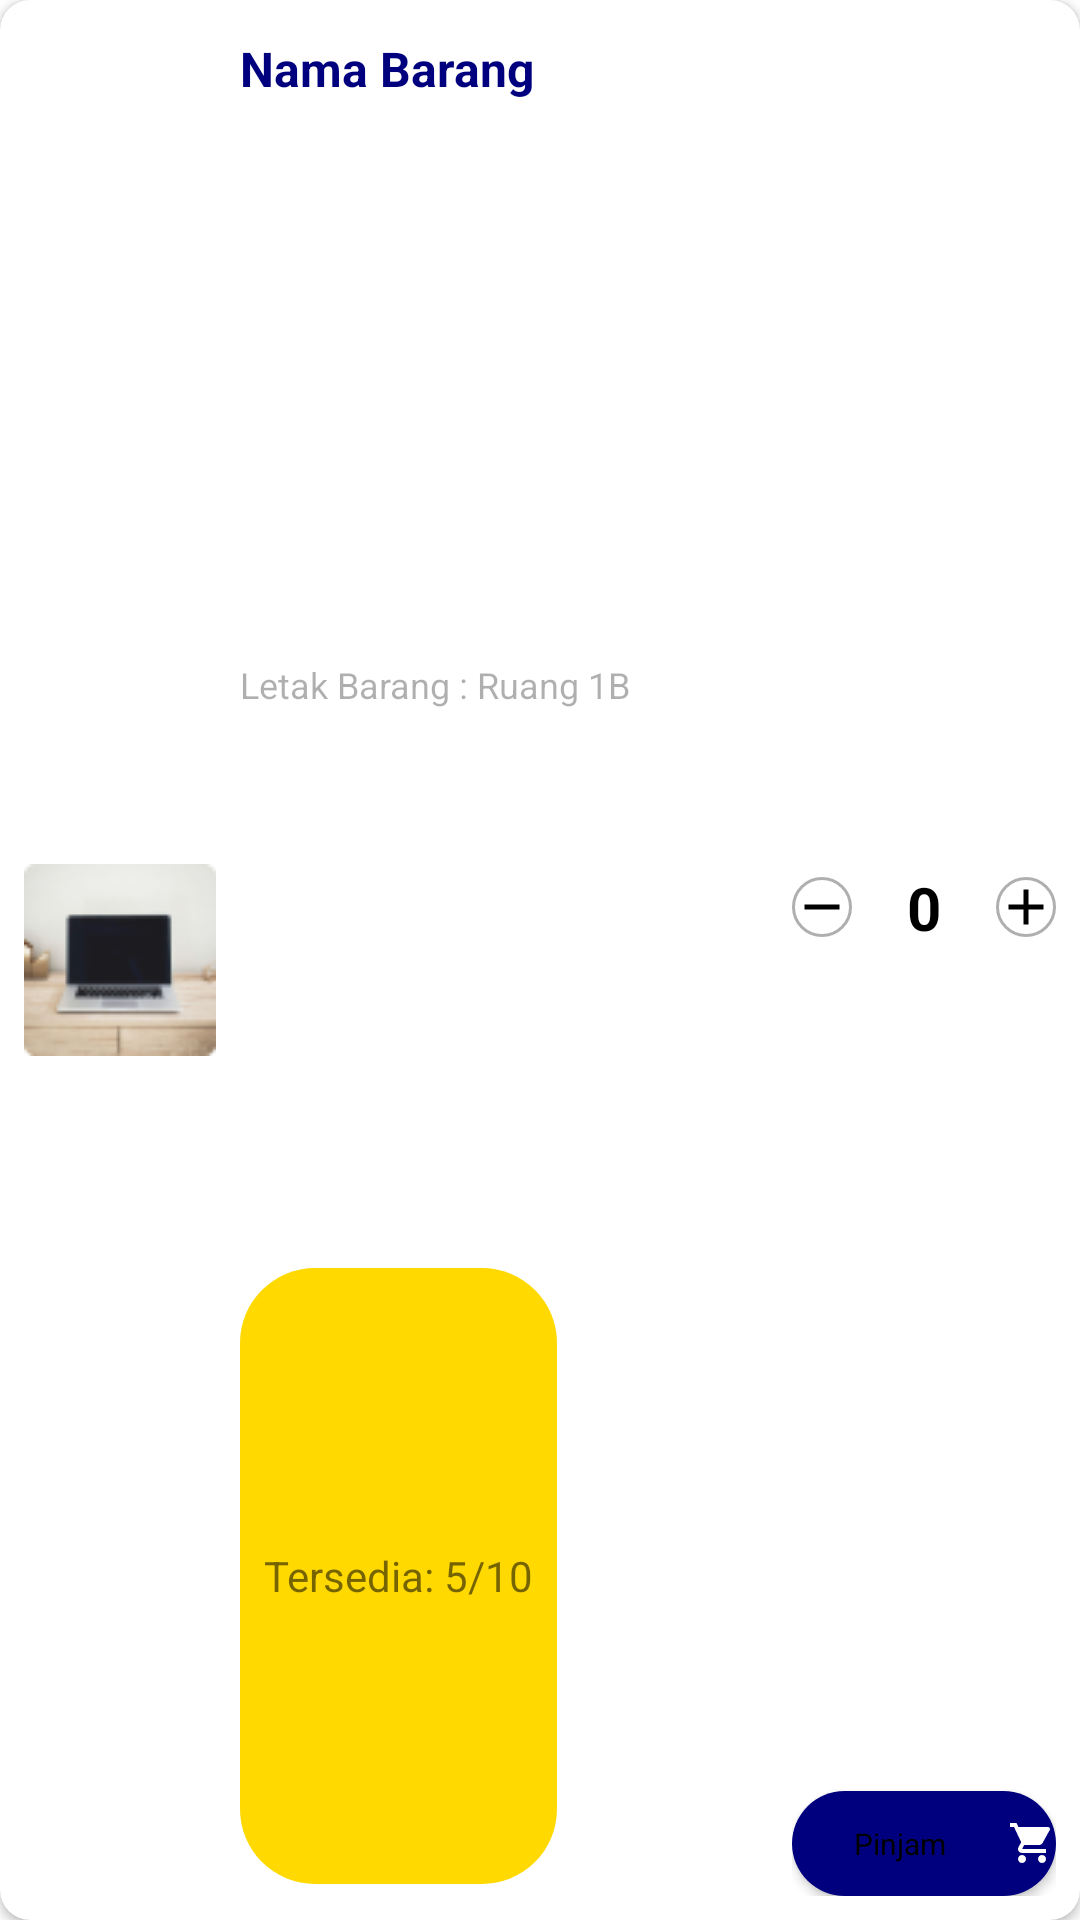

Named icons in this screenshot (1080px×1920px) and their bounding boxes, {"x1": x1, "y1": y1, "x2": x2, "y2": y2}:
add: {"x1": 996, "y1": 877, "x2": 1056, "y2": 937}
remove: {"x1": 792, "y1": 877, "x2": 852, "y2": 937}
